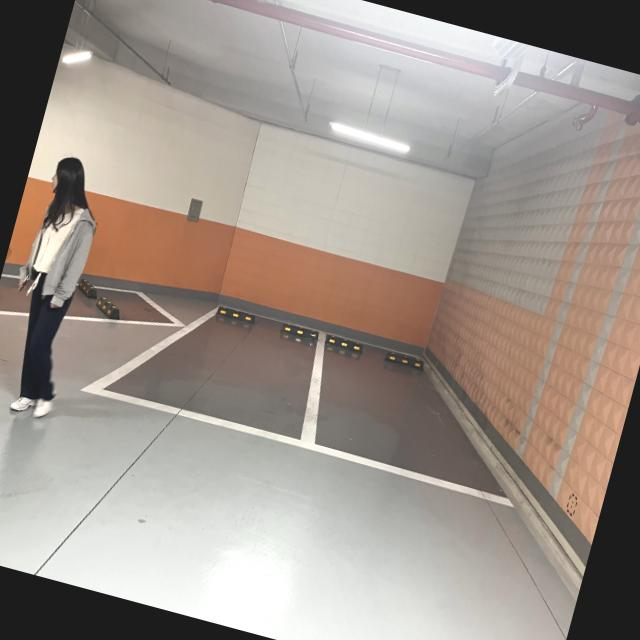free: (301, 330, 518, 509), (80, 301, 326, 451)
